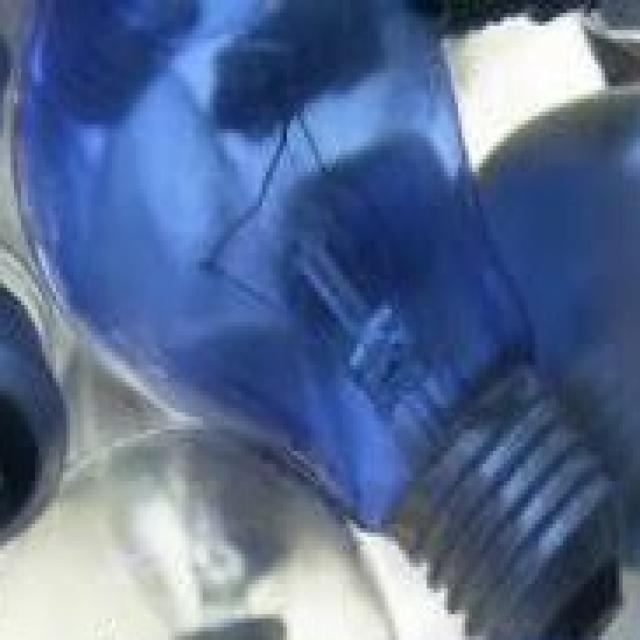bulb: (23, 0, 640, 620)
